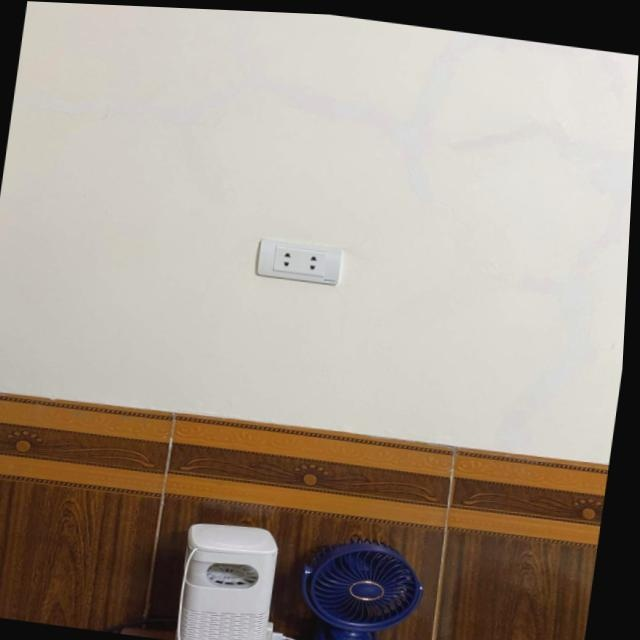outlet: (253, 236, 344, 286)
